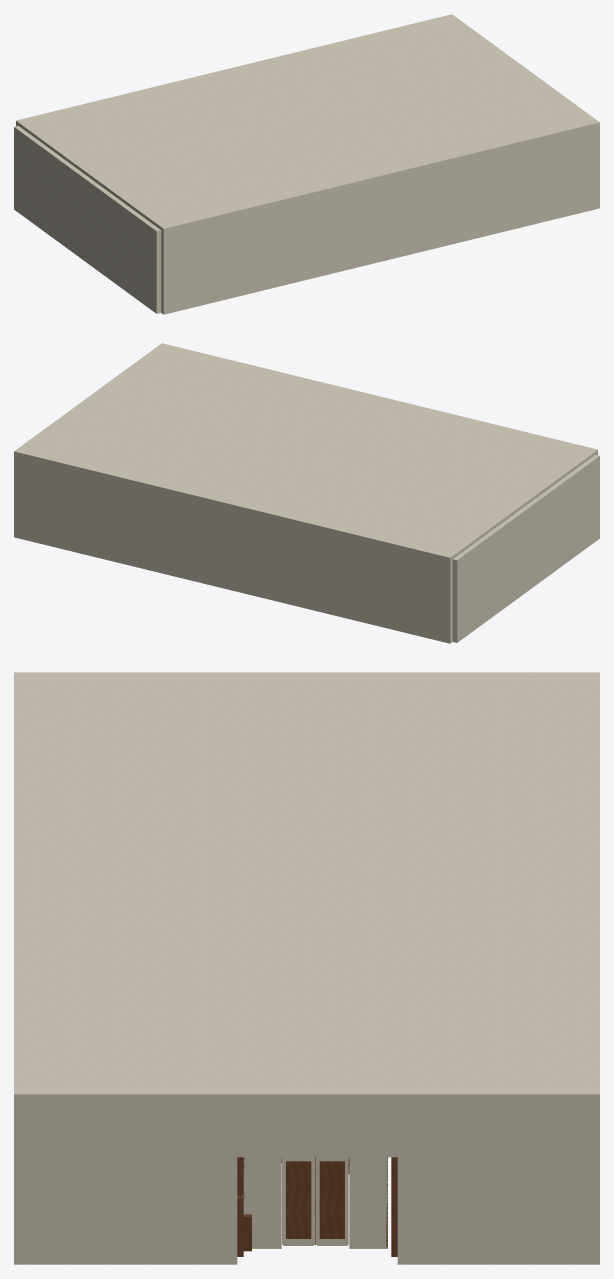
The picture shows the model from 3 angles, top to bottom: view 1: azimuth 30°, elevation 25°; view 2: azimuth 150°, elevation 25°; view 3: azimuth 270°, elevation 25°; orthographic projection. The views are drawn at different scales.
Parts seen in each view (by area): view 1: PremiumPressureClosure, AftPartyWall, HeldFrontageOpaqueEnclosure; view 2: PremiumPressureClosure, ForePartyWall, HeldFrontageOpaqueEnclosure; view 3: PremiumPressureClosure, InnerAftPartyReturn, InnerForePartyReturn, ArrivalHeader, PrivateEntry_01_ENTRY_PocketSkin_-1_1, PrivateEntry_01_ENTRY_PocketSkin_1_1, PrivateEntry_01_ENTRY_TimberInset_RIGHT_1, PrivateEntry_01_ENTRY_TimberInset_LEFT_1, ForePartyWall, PrivateEntry_01_ENTRY_MovingPanel_RIGHT, PrivateEntry_01_ENTRY_MovingPanel_LEFT, AftPartyWall.
Boxes of the visible parts, left/top/right/bottom form: PremiumPressureClosure: left=16, top=14, right=599, bottom=231; AftPartyWall: left=161, top=126, right=599, bottom=314; HeldFrontageOpaqueEnclosure: left=14, top=126, right=161, bottom=313; PremiumPressureClosure: left=14, top=343, right=597, bottom=560; ForePartyWall: left=14, top=455, right=452, bottom=643; HeldFrontageOpaqueEnclosure: left=452, top=455, right=599, bottom=642; PremiumPressureClosure: left=14, top=672, right=599, bottom=1100; InnerAftPartyReturn: left=14, top=1100, right=237, bottom=1264; InnerForePartyReturn: left=397, top=1100, right=599, bottom=1264; ArrivalHeader: left=237, top=1100, right=397, bottom=1157; PrivateEntry_01_ENTRY_PocketSkin_-1_1: left=349, top=1157, right=387, bottom=1247; PrivateEntry_01_ENTRY_PocketSkin_1_1: left=243, top=1157, right=281, bottom=1247; PrivateEntry_01_ENTRY_TimberInset_RIGHT_1: left=286, top=1161, right=311, bottom=1238; PrivateEntry_01_ENTRY_TimberInset_LEFT_1: left=319, top=1161, right=344, bottom=1238; ForePartyWall: left=590, top=1101, right=599, bottom=1264; PrivateEntry_01_ENTRY_MovingPanel_RIGHT: left=282, top=1157, right=314, bottom=1245; PrivateEntry_01_ENTRY_MovingPanel_LEFT: left=316, top=1157, right=348, bottom=1245; AftPartyWall: left=14, top=1100, right=23, bottom=1264.
Size of the model in its own units: 23.88 by 4.45 by 13.88.
Materials: 158 (152 with a texture image).
